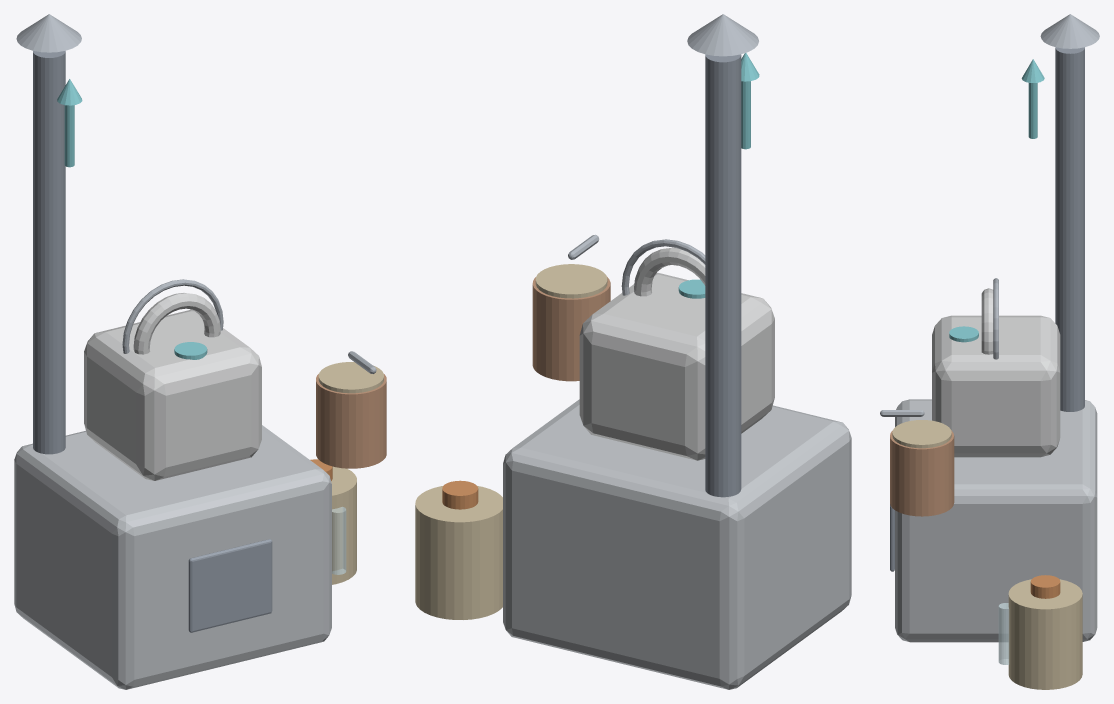
3 views of the same model, side by side, from view 1: azimuth 30°, elevation 25°; view 2: azimuth 150°, elevation 25°; view 3: azimuth 270°, elevation 25° (orthographic). The views are drawn at different scales.
Visible parts, largest first — view 1: part_camara, part_taza, part_ducto, part_material_secante, part_contenedor_orina, deco_flujo, part_contenedor_orina_nivel; view 2: part_camara, part_taza, part_ducto, part_contenedor_orina, part_material_secante, deco_flujo; view 3: part_camara, part_taza, part_ducto, part_contenedor_orina, part_material_secante, deco_flujo, part_contenedor_orina_nivel.
Part boxes in pixels (x1,y1,x2,y2): part_camara: (14,425,331,689); part_taza: (84,279,261,480); part_ducto: (16,14,81,454); part_material_secante: (316,351,386,468); part_contenedor_orina: (310,459,356,584); deco_flujo: (57,79,82,167); part_contenedor_orina_nivel: (332,507,346,574); part_camara: (503,399,851,689); part_taza: (579,239,774,460); part_ducto: (687,14,758,497); part_contenedor_orina: (415,480,502,619); part_material_secante: (532,234,610,381); deco_flujo: (741,53,759,149); part_camara: (890,399,1097,642); part_taza: (932,278,1060,457); part_ducto: (1040,14,1099,411); part_contenedor_orina: (1008,575,1082,689); part_material_secante: (880,410,954,516); deco_flujo: (1021,59,1044,138); part_contenedor_orina_nivel: (998,603,1009,664).
Bounding box in the file's own units: 1.34 × 2.45 × 0.89.
